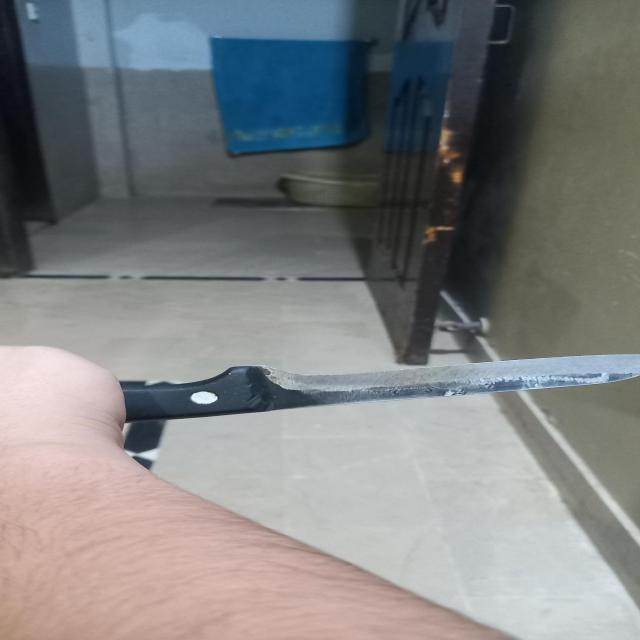faca: (103, 350, 638, 430)
